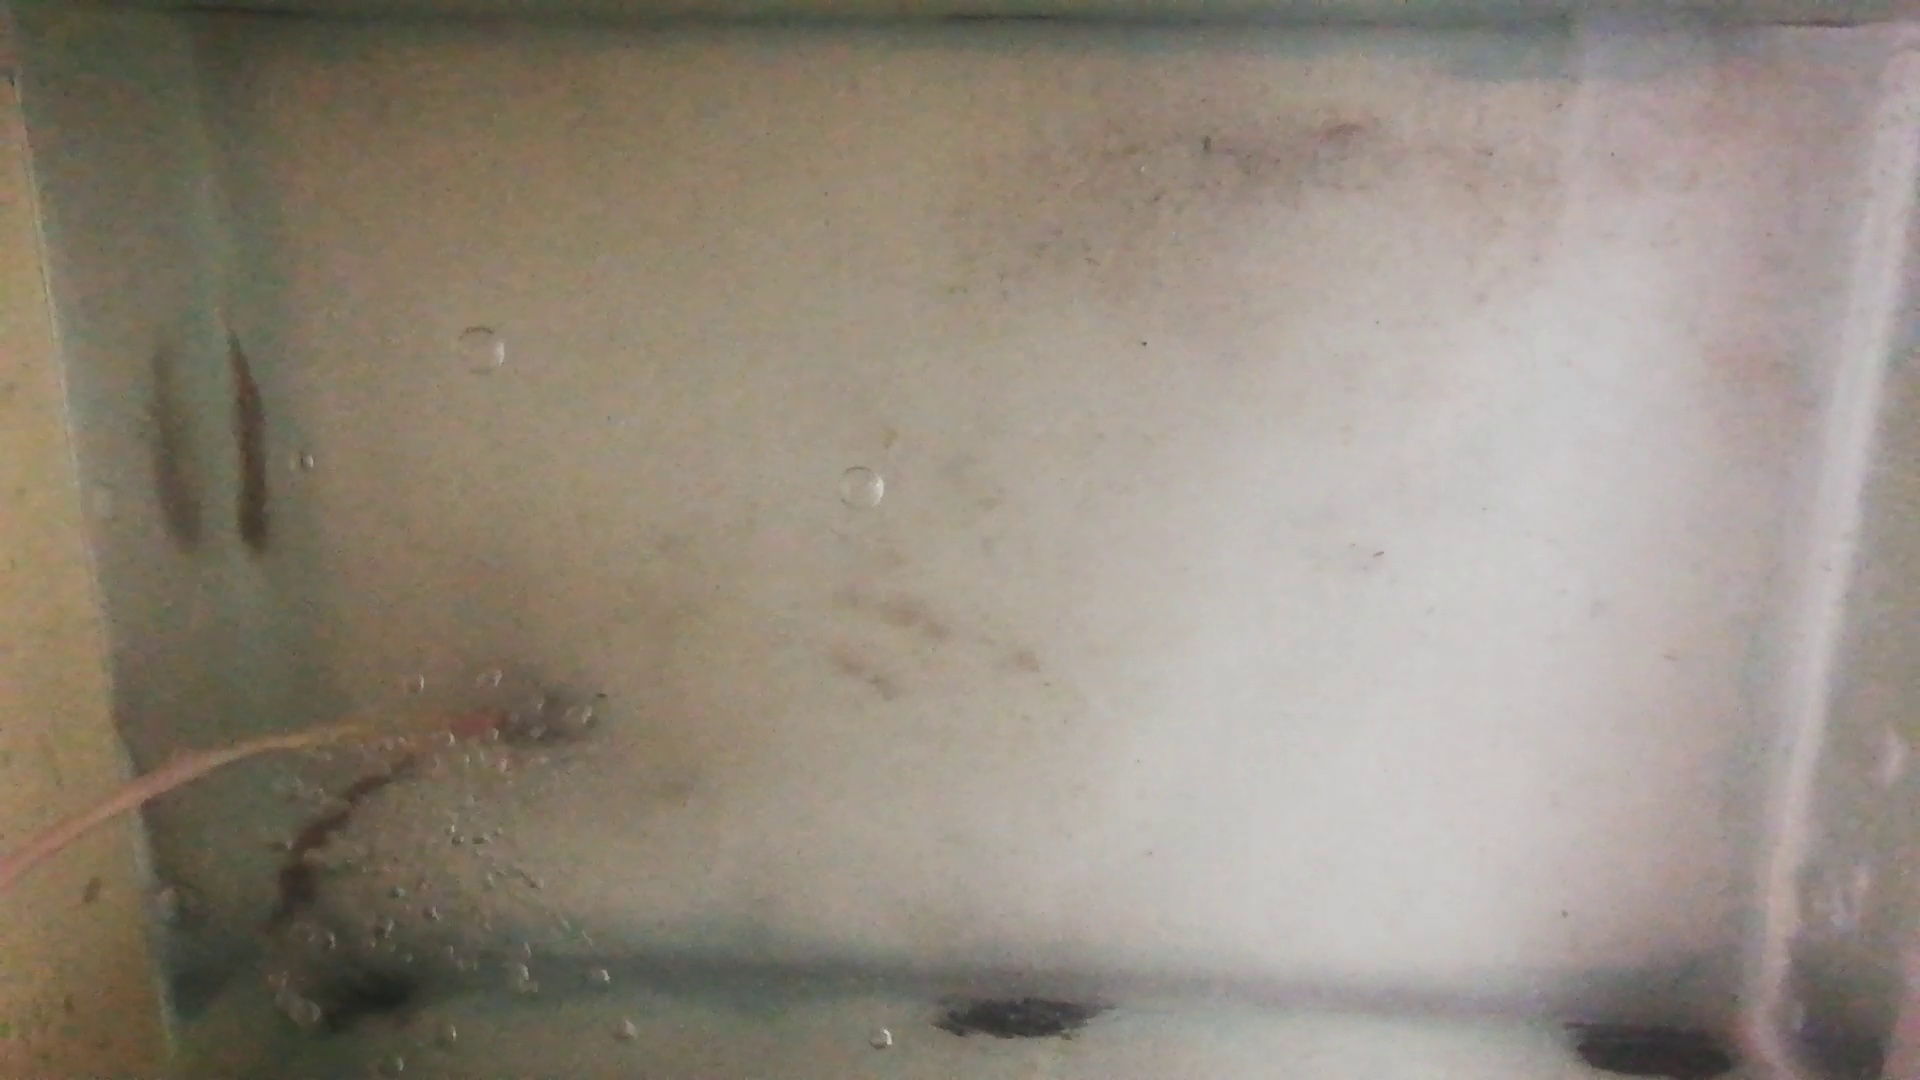fish: (264, 771, 397, 926), (224, 334, 272, 550)
